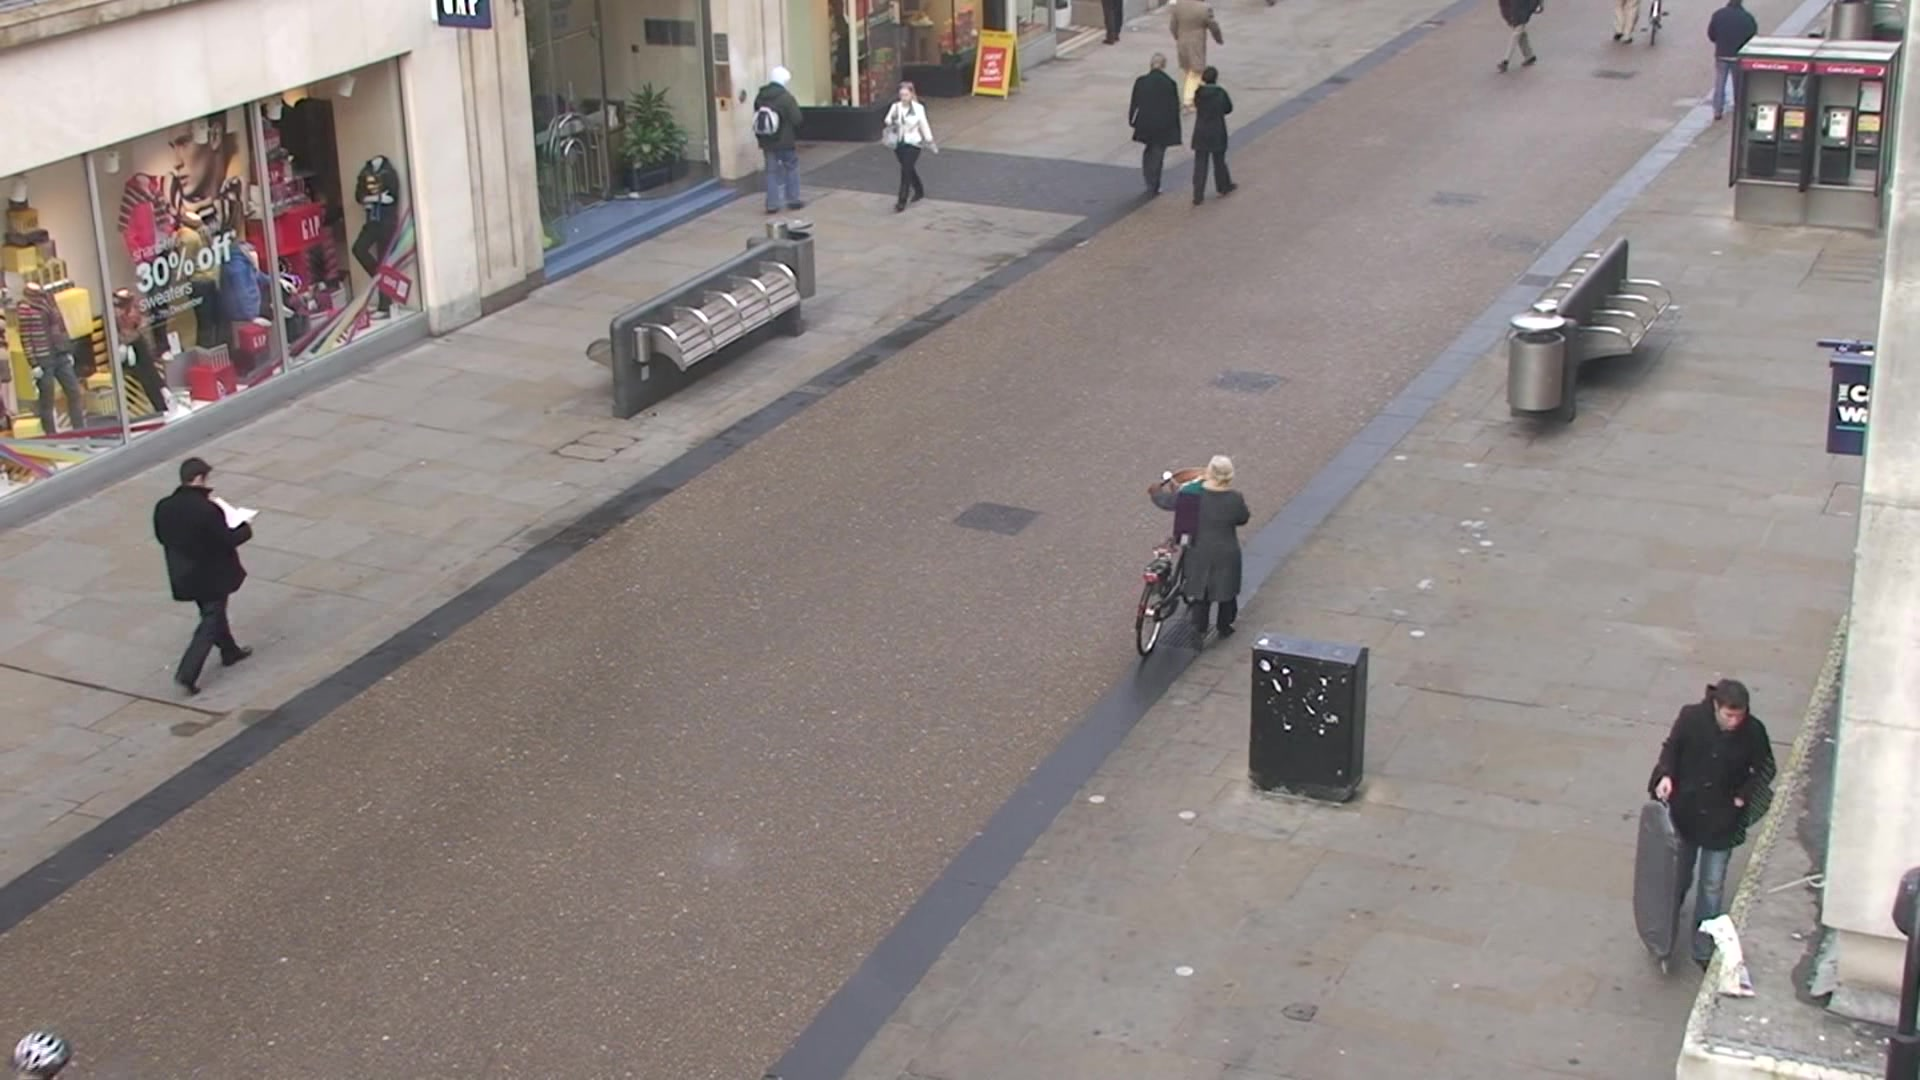person: (1647, 679, 1777, 972), (155, 458, 256, 697), (1148, 454, 1252, 653), (750, 66, 809, 215), (1129, 52, 1183, 198), (880, 80, 939, 212), (1189, 66, 1237, 208)
